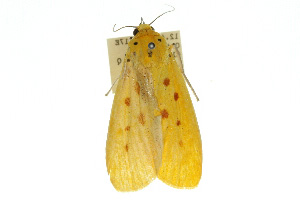Agape chloropyga: (102, 5, 203, 192)
moth: (102, 5, 203, 192)
